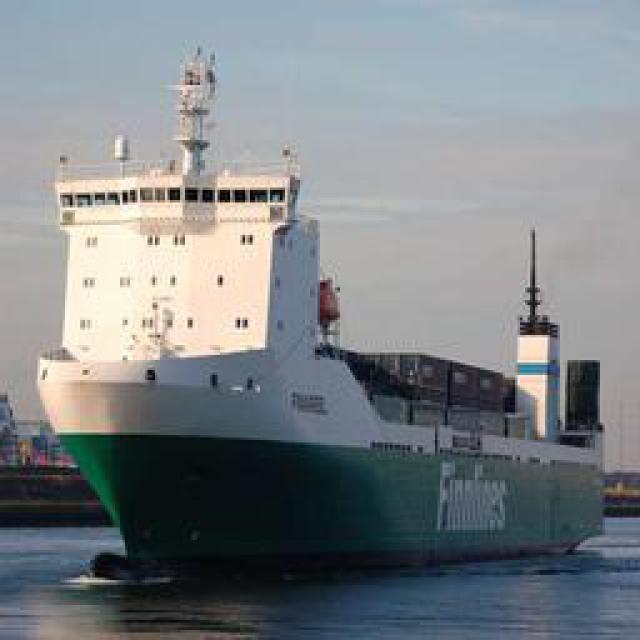Ship: (41, 95, 601, 575)
